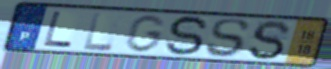G: (122, 13, 168, 54)
L: (82, 11, 116, 53), (41, 10, 74, 49)
S: (163, 14, 211, 58), (246, 19, 294, 62), (204, 18, 251, 59)
